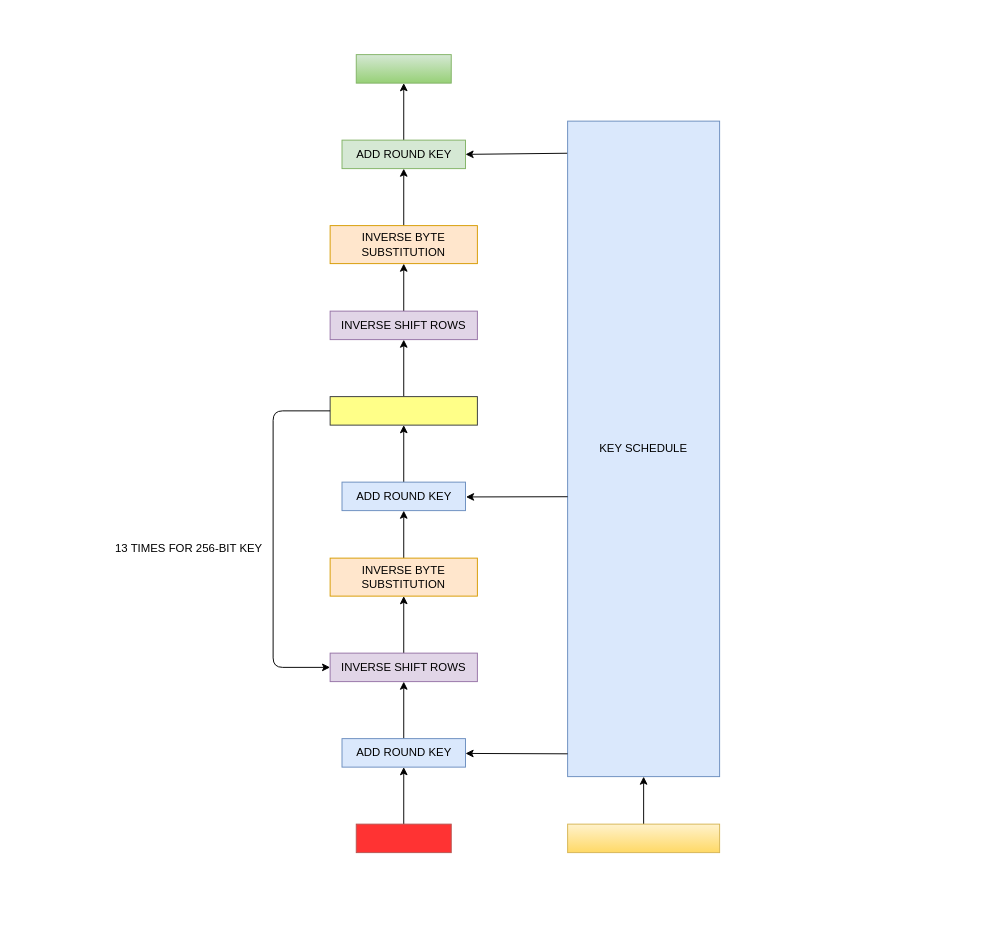
This 1001x925 diagram has some shape labels left out. Each missing label, with the centre of its shape:
"CIPHER KEY (256 BITS)" belongs at pixel 643 838.
"CIPHER TEXT" belongs at pixel 403 838.
"INVERSE MIX COLUMNS" belongs at pixel 403 410.
"PLAINTEXT" belongs at pixel 403 68.
